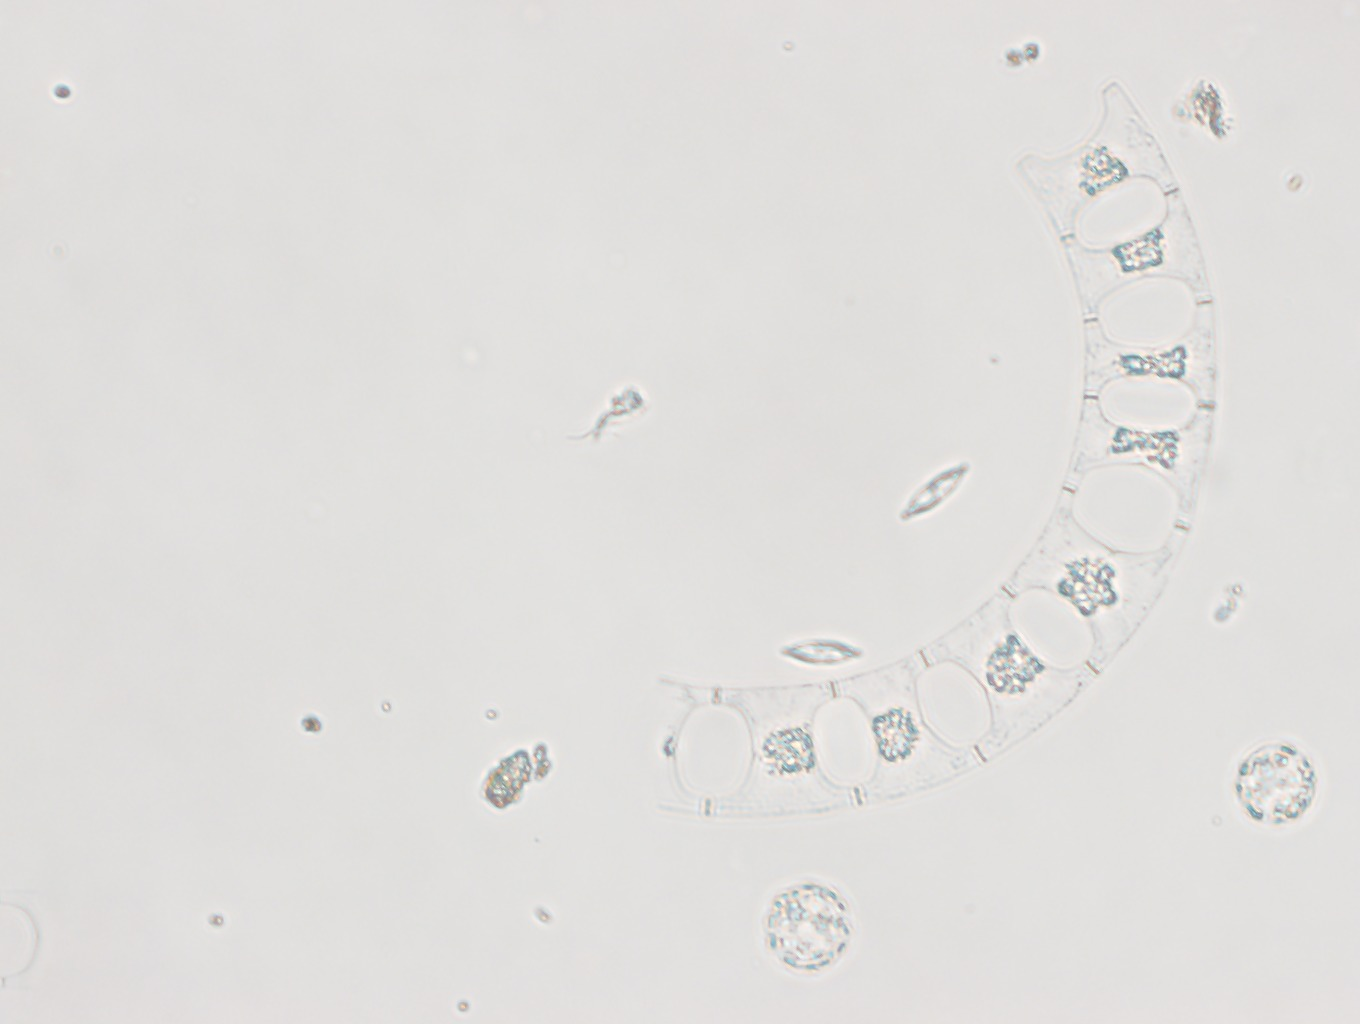eucampia: (658, 77, 1219, 817)
